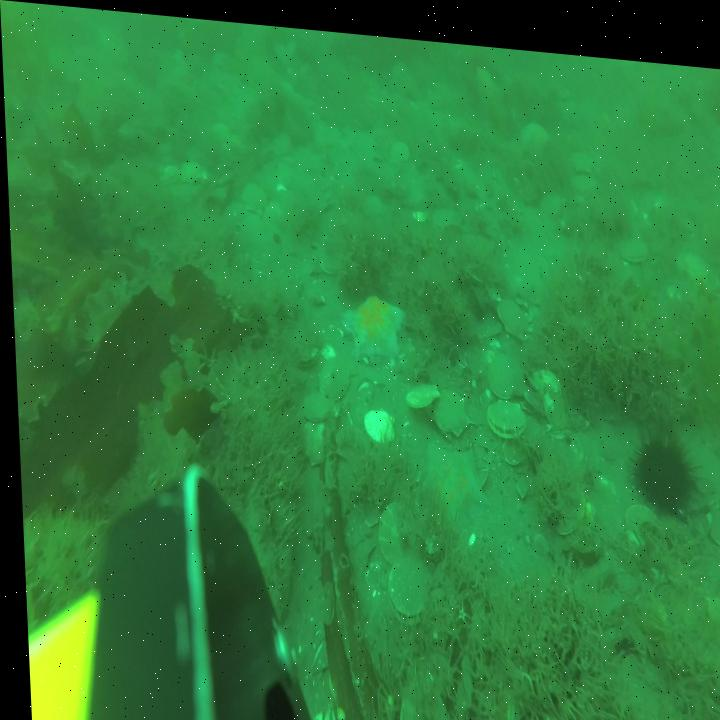echinus: (625, 407, 694, 511)
scallop: (380, 539, 432, 618), (373, 489, 415, 563), (391, 666, 446, 720), (619, 484, 660, 546), (483, 337, 525, 392), (428, 375, 468, 431), (482, 387, 525, 435), (292, 409, 326, 466), (688, 428, 720, 486), (526, 354, 560, 408), (314, 347, 350, 396), (673, 230, 710, 277), (494, 286, 529, 335), (359, 397, 395, 443), (616, 217, 649, 257), (400, 373, 439, 406), (298, 385, 332, 420), (237, 174, 267, 212), (566, 135, 595, 165), (705, 490, 720, 547), (631, 708, 699, 720), (539, 177, 564, 208), (177, 154, 201, 186), (387, 130, 410, 162)
starfish: (414, 429, 489, 528), (337, 278, 405, 355), (517, 104, 551, 149)
